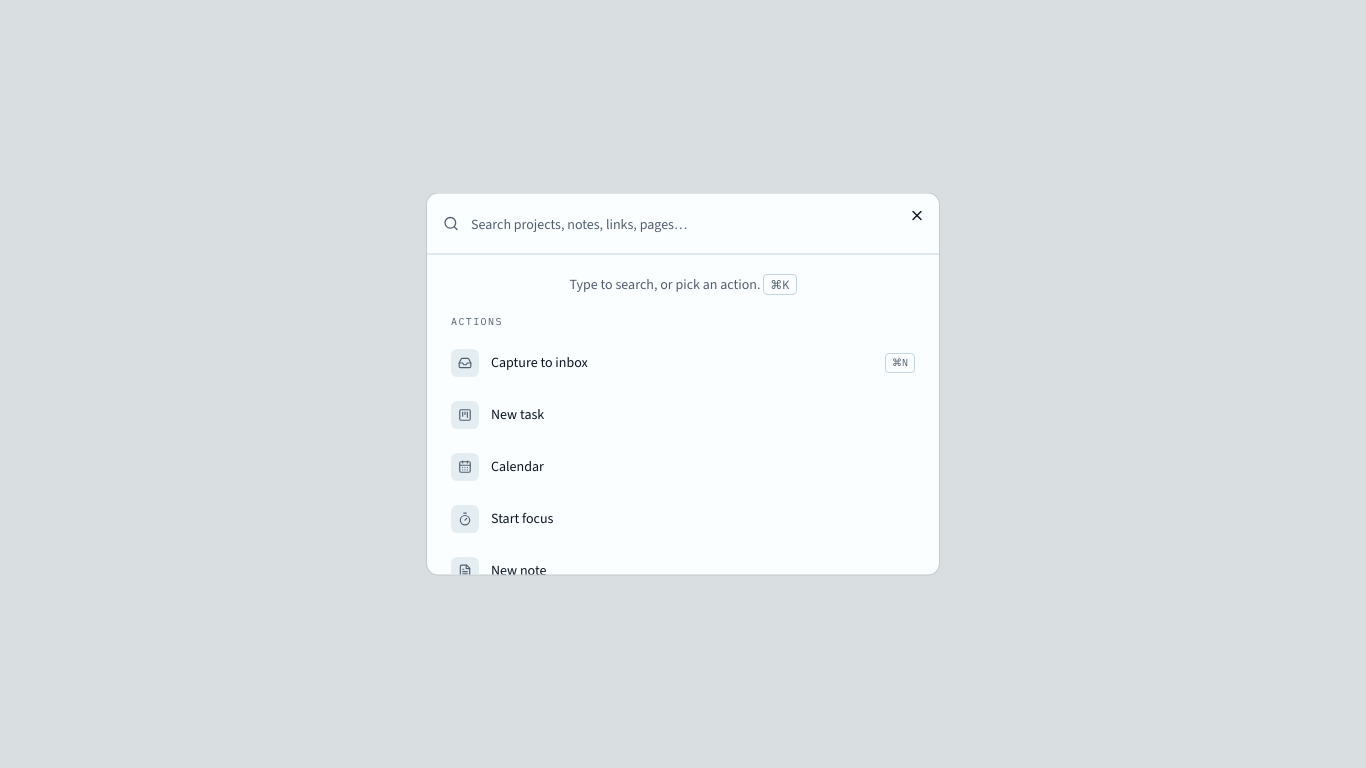
Component: CommandPalette › renders grouped search results
This screenshot has width=1366, height=768.
Type "meet" into the field with placeholder "Search projects, notes, links, pages…" at (683, 224), box [443,206,923,242]
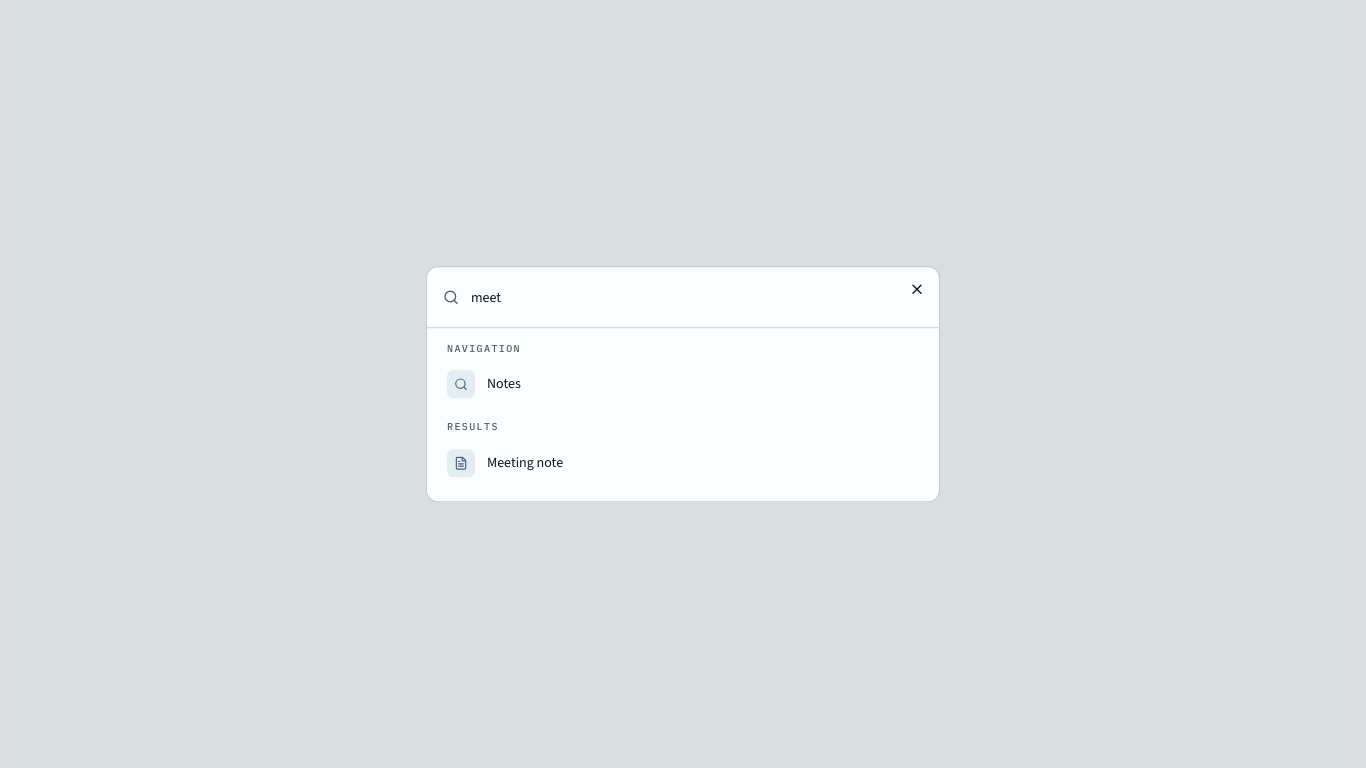
expect the text "Navigation" is shown: met, box [447,342,521,355]
expect the text "Results" is shown: met, box [447,420,499,434]
expect the button "Notes" is shown: met, box [435,362,931,406]
